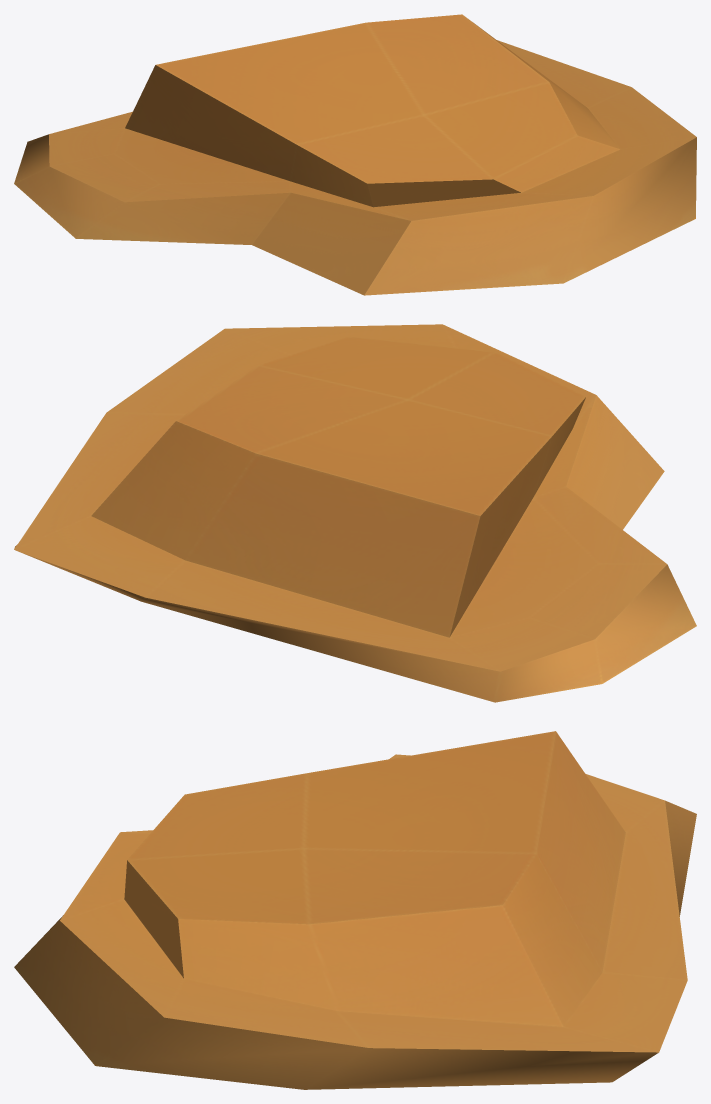
Rendered from desert-rock-big1.fbx.
The picture shows the model from 3 angles, top to bottom: view 1: azimuth 30°, elevation 25°; view 2: azimuth 150°, elevation 25°; view 3: azimuth 270°, elevation 25°; orthographic projection. The views are drawn at different scales.
Visible parts, largest first — view 1: pPlane1; view 2: pPlane1; view 3: pPlane1.
Boxes of the visible parts, x1=… form: pPlane1: x1=14, y1=14, x2=696, y2=295; pPlane1: x1=14, y1=324, x2=696, y2=702; pPlane1: x1=14, y1=731, x2=696, y2=1089.
Bounding box in the file's own units: 104 × 19.08 × 94.63.
Materials: 1 (1 with a texture image).
